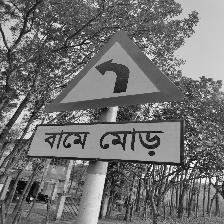Left-Turn: (33, 29, 188, 168)
